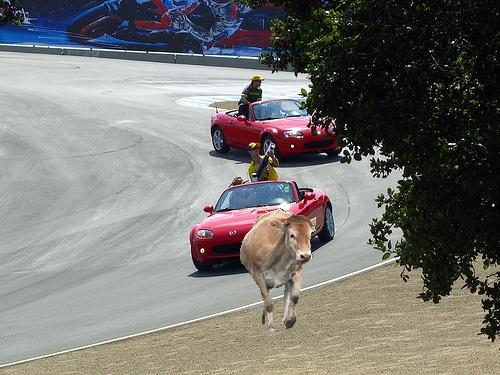tampered: (241, 209, 316, 332)
